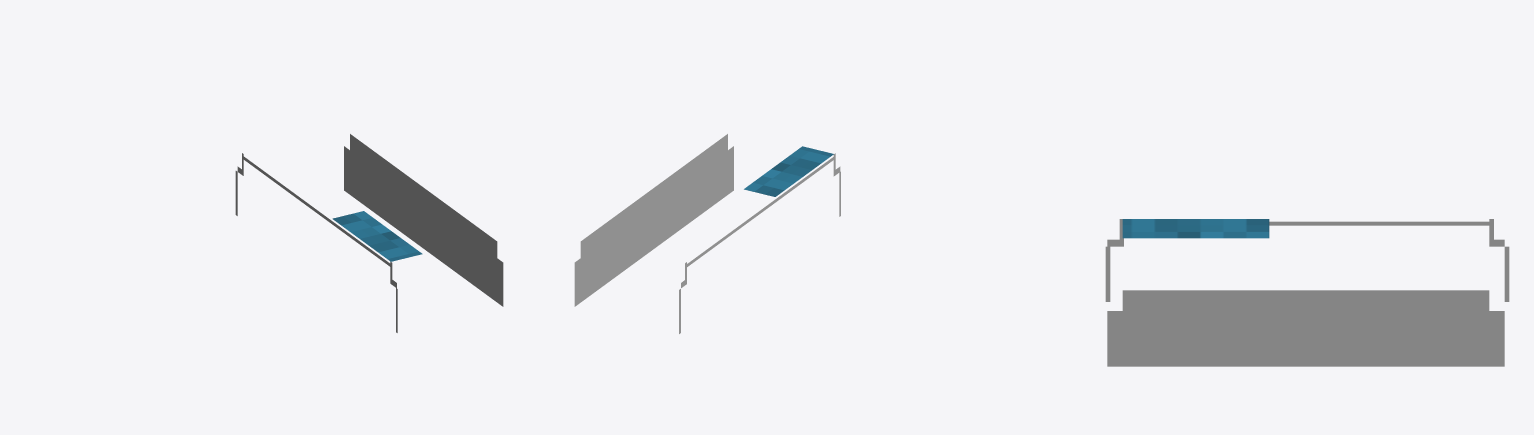
Rendered from Rct_Bed_Big.fbx.
3 views of the same model, side by side, from view 1: azimuth 30°, elevation 25°; view 2: azimuth 150°, elevation 25°; view 3: azimuth 270°, elevation 25° (orthographic). The views are drawn at different scales.
Visible parts, largest first — view 1: cube (×4); view 2: cube (×4); view 3: cube (×4).
Boxes of the visible parts, left/top/right/bottom form: cube (×4): left=243, top=134, right=503, bottom=306; cube (×4): left=574, top=134, right=833, bottom=306; cube (×4): left=1107, top=219, right=1504, bottom=366.
Size of the model in its own units: 2.06 by 1.25 by 1.75.
Materials: 3 (3 with a texture image).
